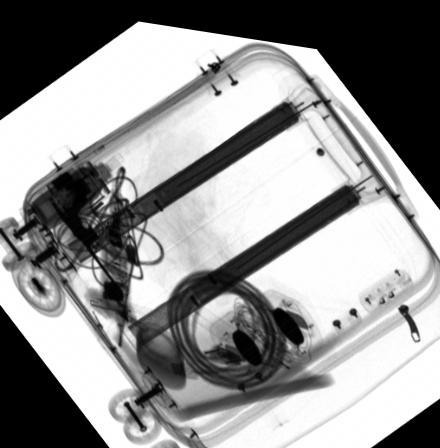Gun: (56, 191, 123, 290)
